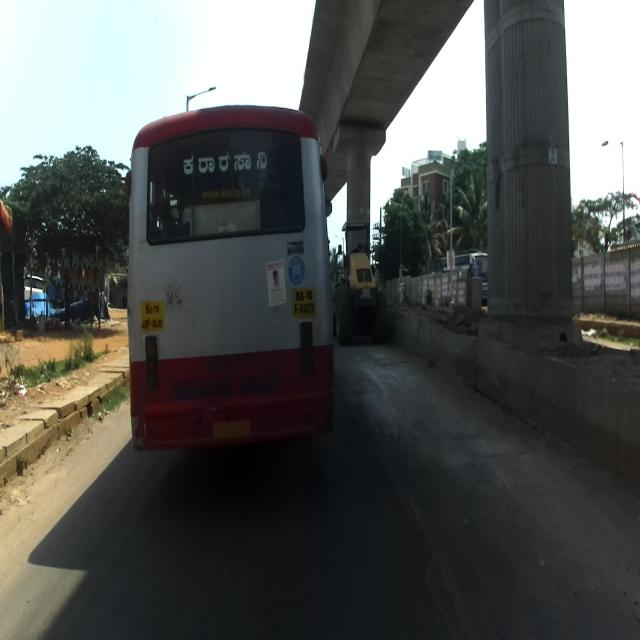bus: (122, 103, 333, 480)
